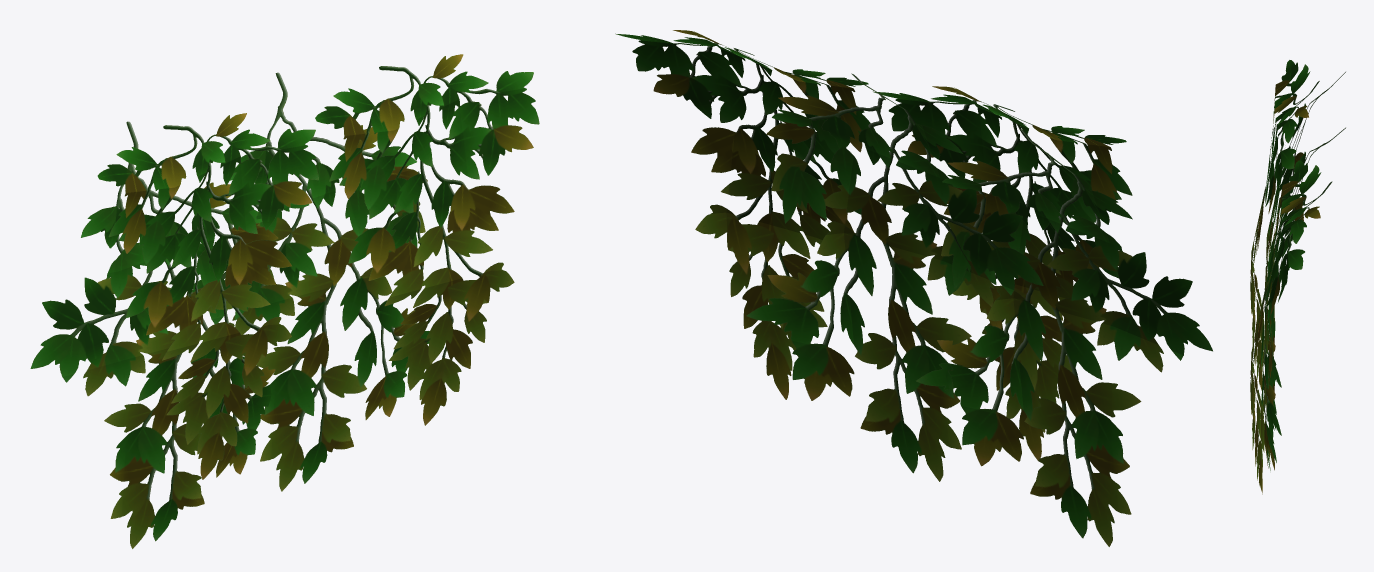
The model's file is vines2.fbx.
The picture shows the model from 3 angles, left to right: view 1: azimuth 30°, elevation 25°; view 2: azimuth 150°, elevation 25°; view 3: azimuth 270°, elevation 25°; orthographic projection. The views are drawn at different scales.
Parts seen in each view (by area): view 1: vines2; view 2: vines2; view 3: vines2.
Boxes of the visible parts, <box> form: vines2: <box>30,54,539,548</box>; vines2: <box>615,30,1212,546</box>; vines2: <box>1250,60,1345,494</box>.
Bounding box in the file's own units: 185 × 139 × 36.3.
Materials: 1 (1 with a texture image).
